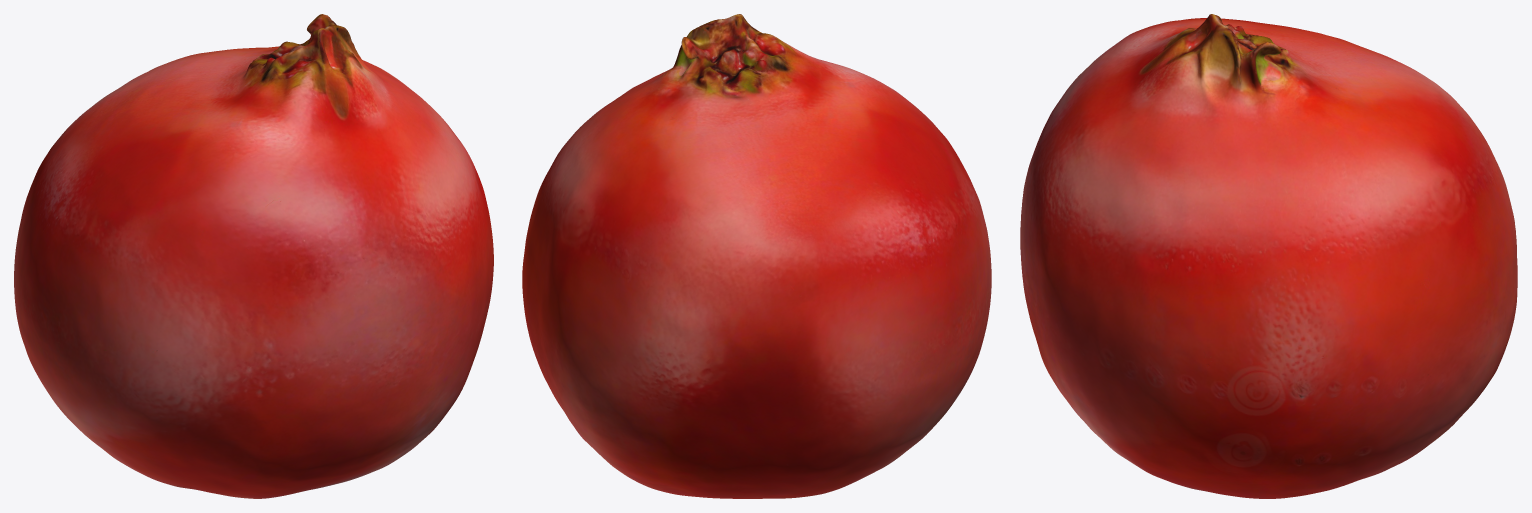
Rendered from tree0078_dup.gltf.
The picture shows the model from 3 angles, left to right: view 1: azimuth 30°, elevation 25°; view 2: azimuth 150°, elevation 25°; view 3: azimuth 270°, elevation 25°; orthographic projection. The views are drawn at different scales.
Visible parts, largest first — view 1: Mesh_0.058; view 2: Mesh_0.058; view 3: Mesh_0.058.
Part boxes in pixels (bbox=[...]): Mesh_0.058: bbox=[14, 14, 493, 498]; Mesh_0.058: bbox=[522, 14, 991, 498]; Mesh_0.058: bbox=[1020, 14, 1517, 498].
Size of the model in its own units: 2 by 2.01 by 1.96.
1 material, 1 textured.
